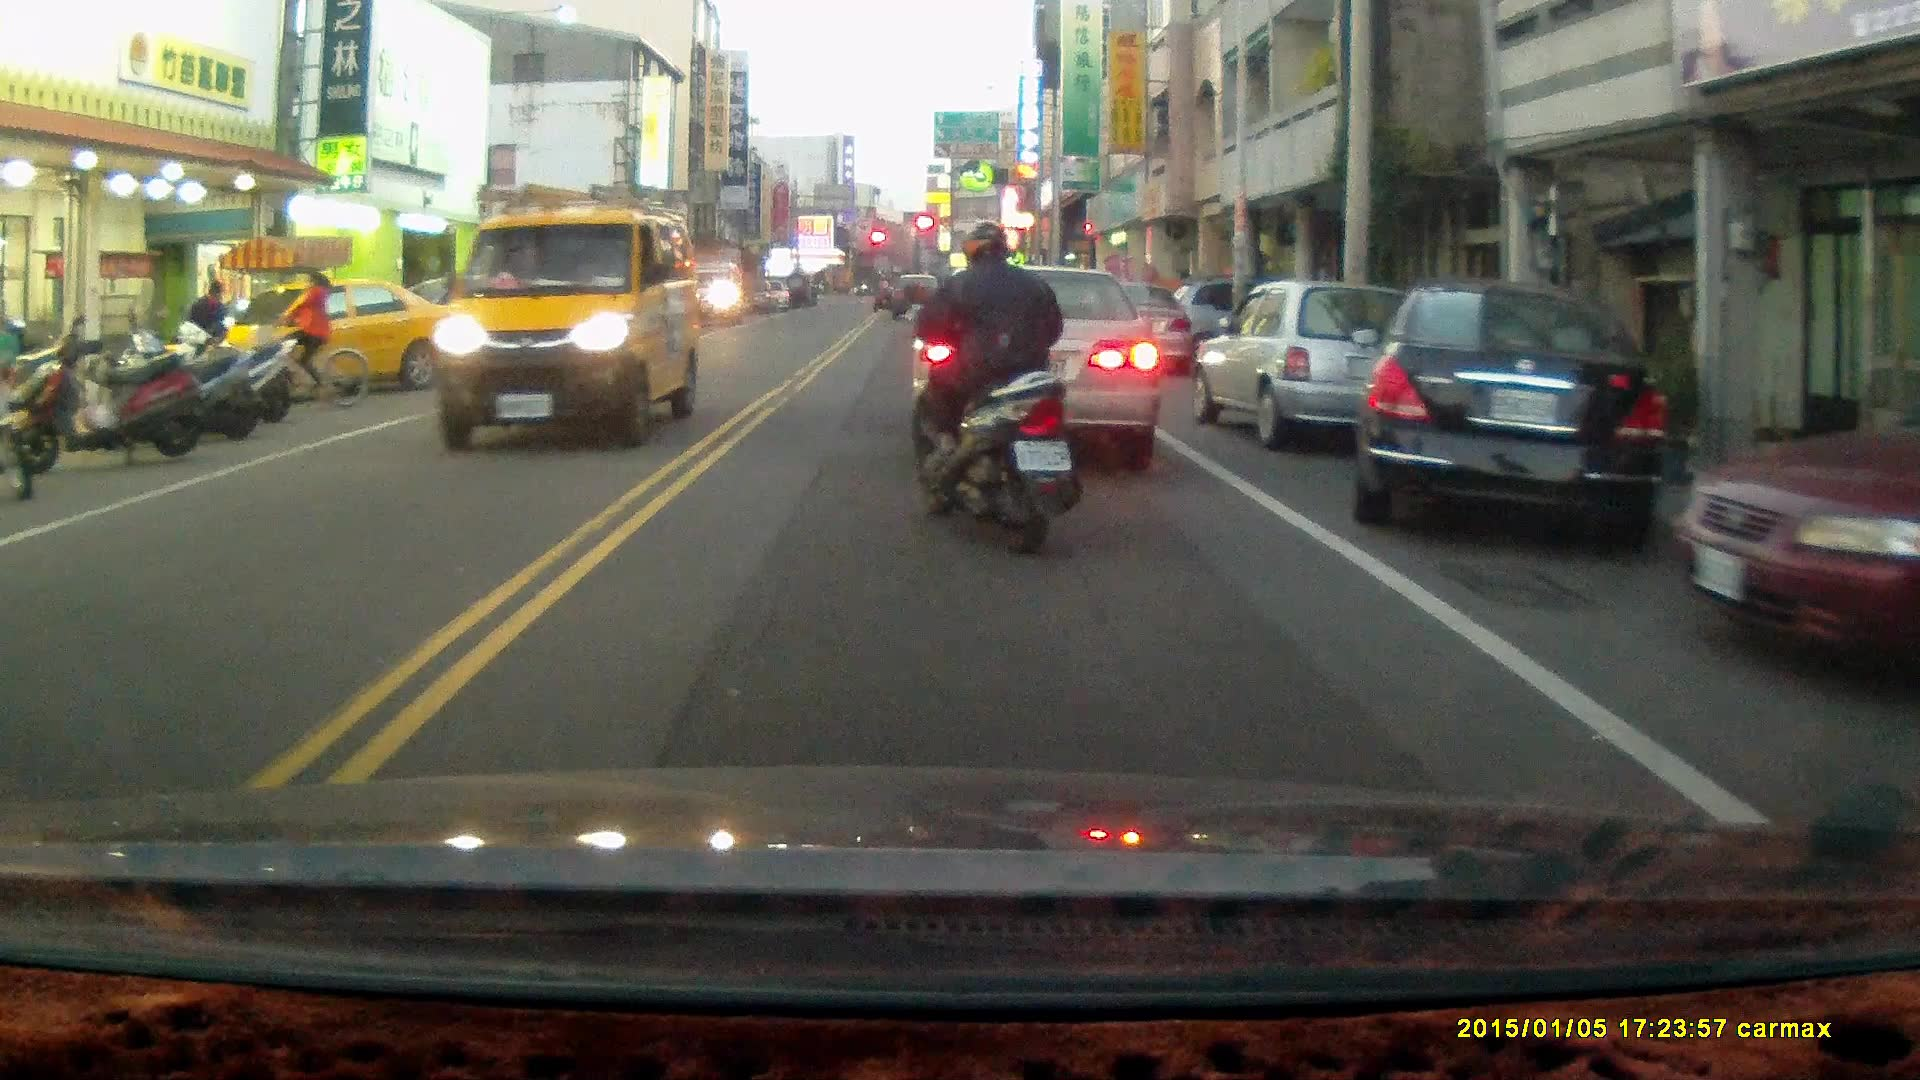pedestrian: (183, 281, 229, 384)
rider: (901, 220, 1084, 562), (253, 268, 366, 418)
vehicle: (1350, 288, 1674, 560), (1661, 359, 1920, 696), (437, 191, 708, 460), (913, 272, 1171, 477), (1191, 279, 1437, 457), (221, 288, 474, 405), (689, 268, 748, 335)
